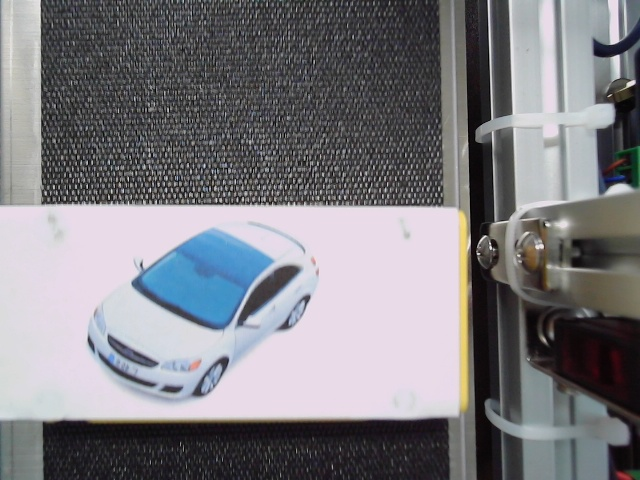car: (86, 219, 322, 404)
